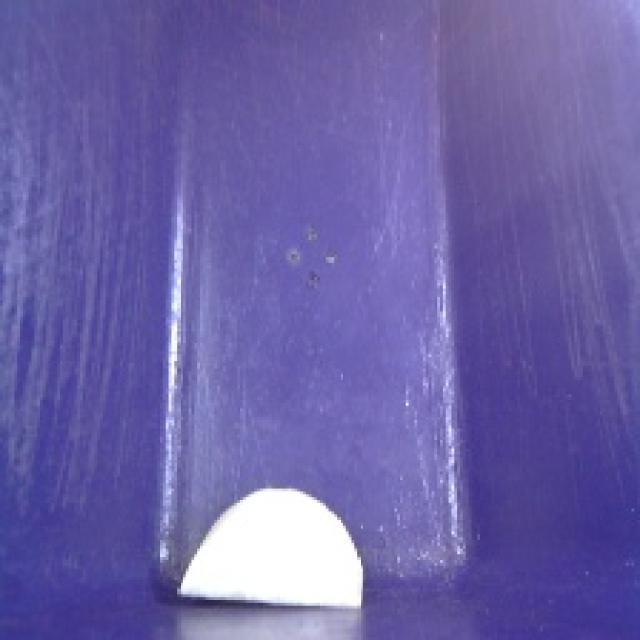white_radish: (163, 465, 380, 624)
